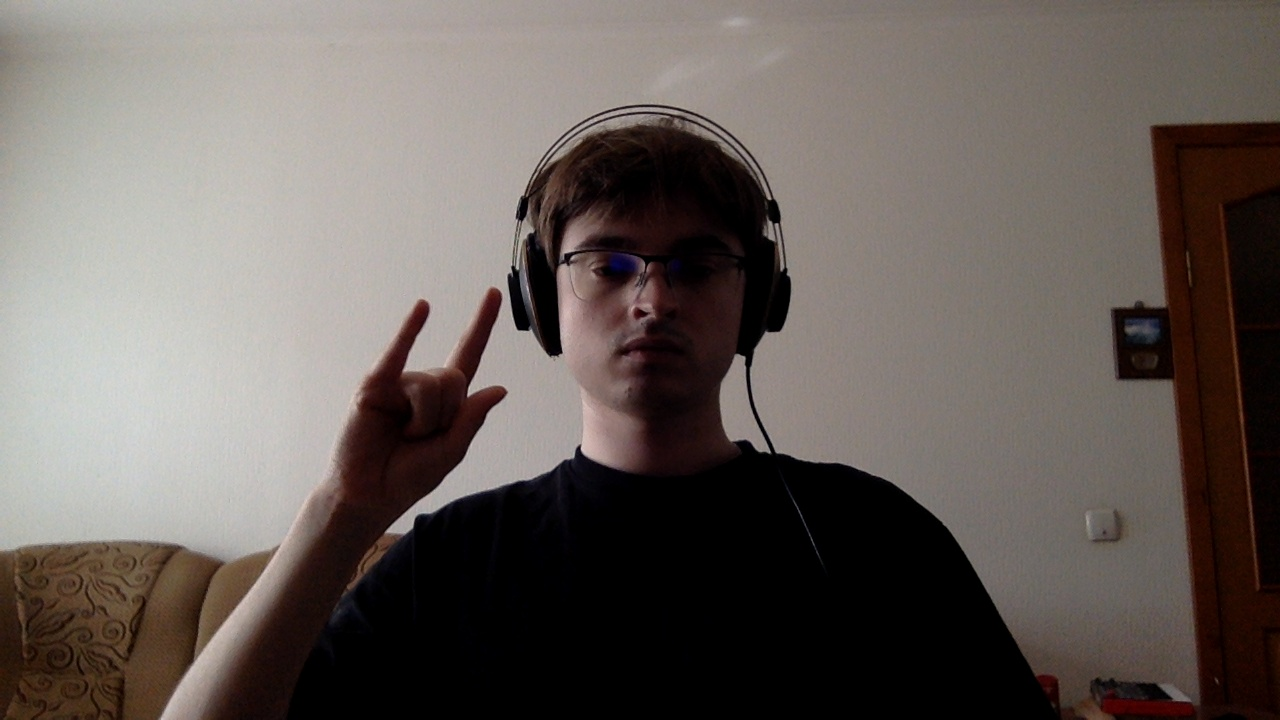i love you: (303, 261, 550, 556)
